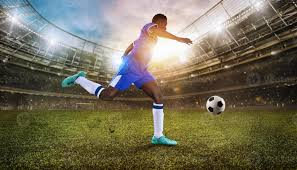football ball: (202, 95, 227, 119)
